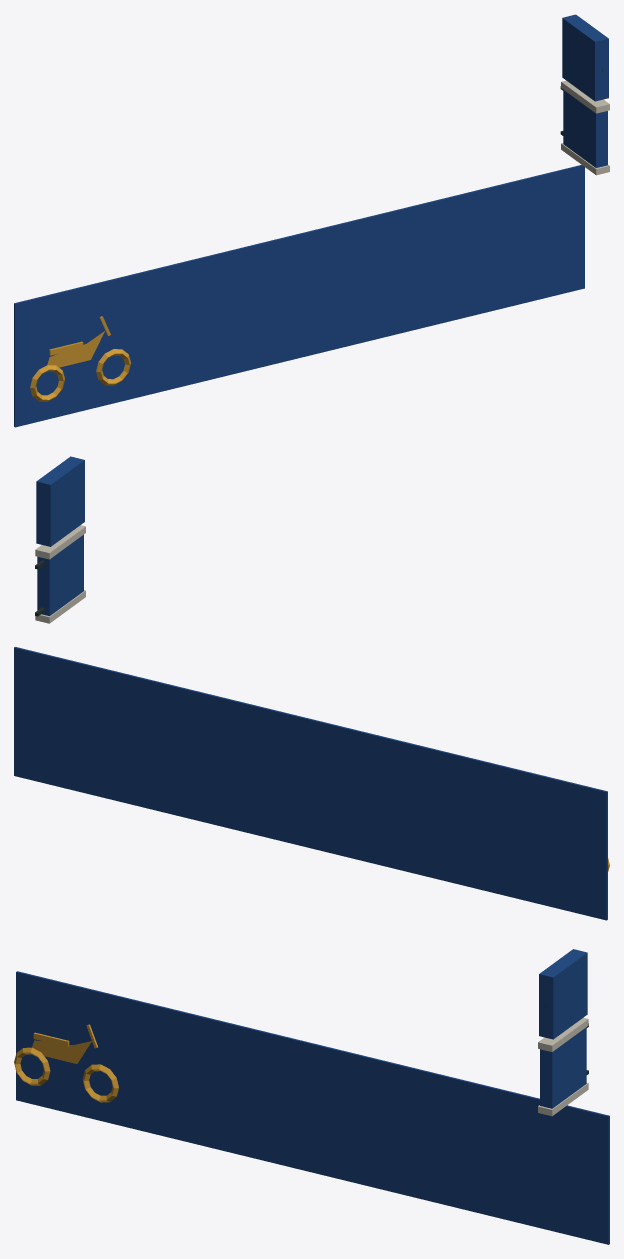
File: bang_giu_xe_60.glb
3 views of the same model, one above another, from view 1: azimuth 30°, elevation 25°; view 2: azimuth 150°, elevation 25°; view 3: azimuth 330°, elevation 25° (orthographic). The views are drawn at different scales.
Visible parts, largest first — view 1: bang_giu_xe_60; view 2: bang_giu_xe_60; view 3: bang_giu_xe_60.
Part boxes in pixels (x1,y1,x2,y2): bang_giu_xe_60: [14, 14, 609, 427]; bang_giu_xe_60: [14, 456, 609, 920]; bang_giu_xe_60: [14, 949, 609, 1244].
Size of the model in its own units: 5.8 by 2.74 by 0.72.
